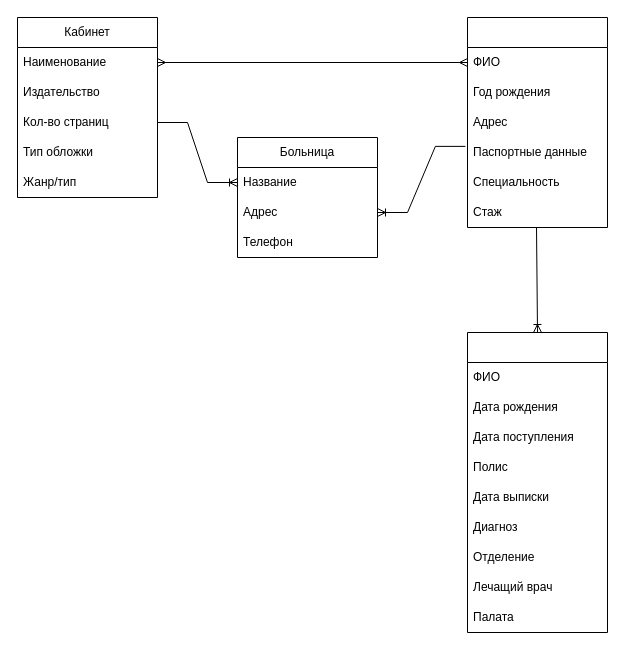
This 625x650 diagram has some shape labels left out. The box of each missing label's shape, as (x1, y1, x2, y2) in pixels:
Врач: (466, 16, 608, 228)
Пациент: (466, 332, 608, 632)
